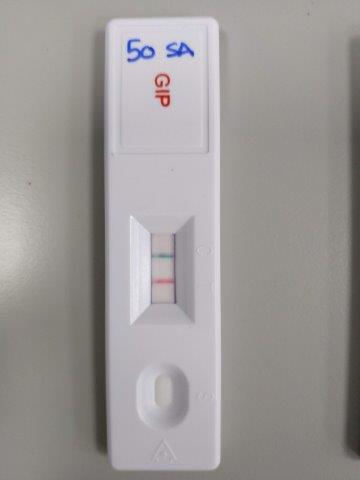Positive: (149, 231, 177, 305)
